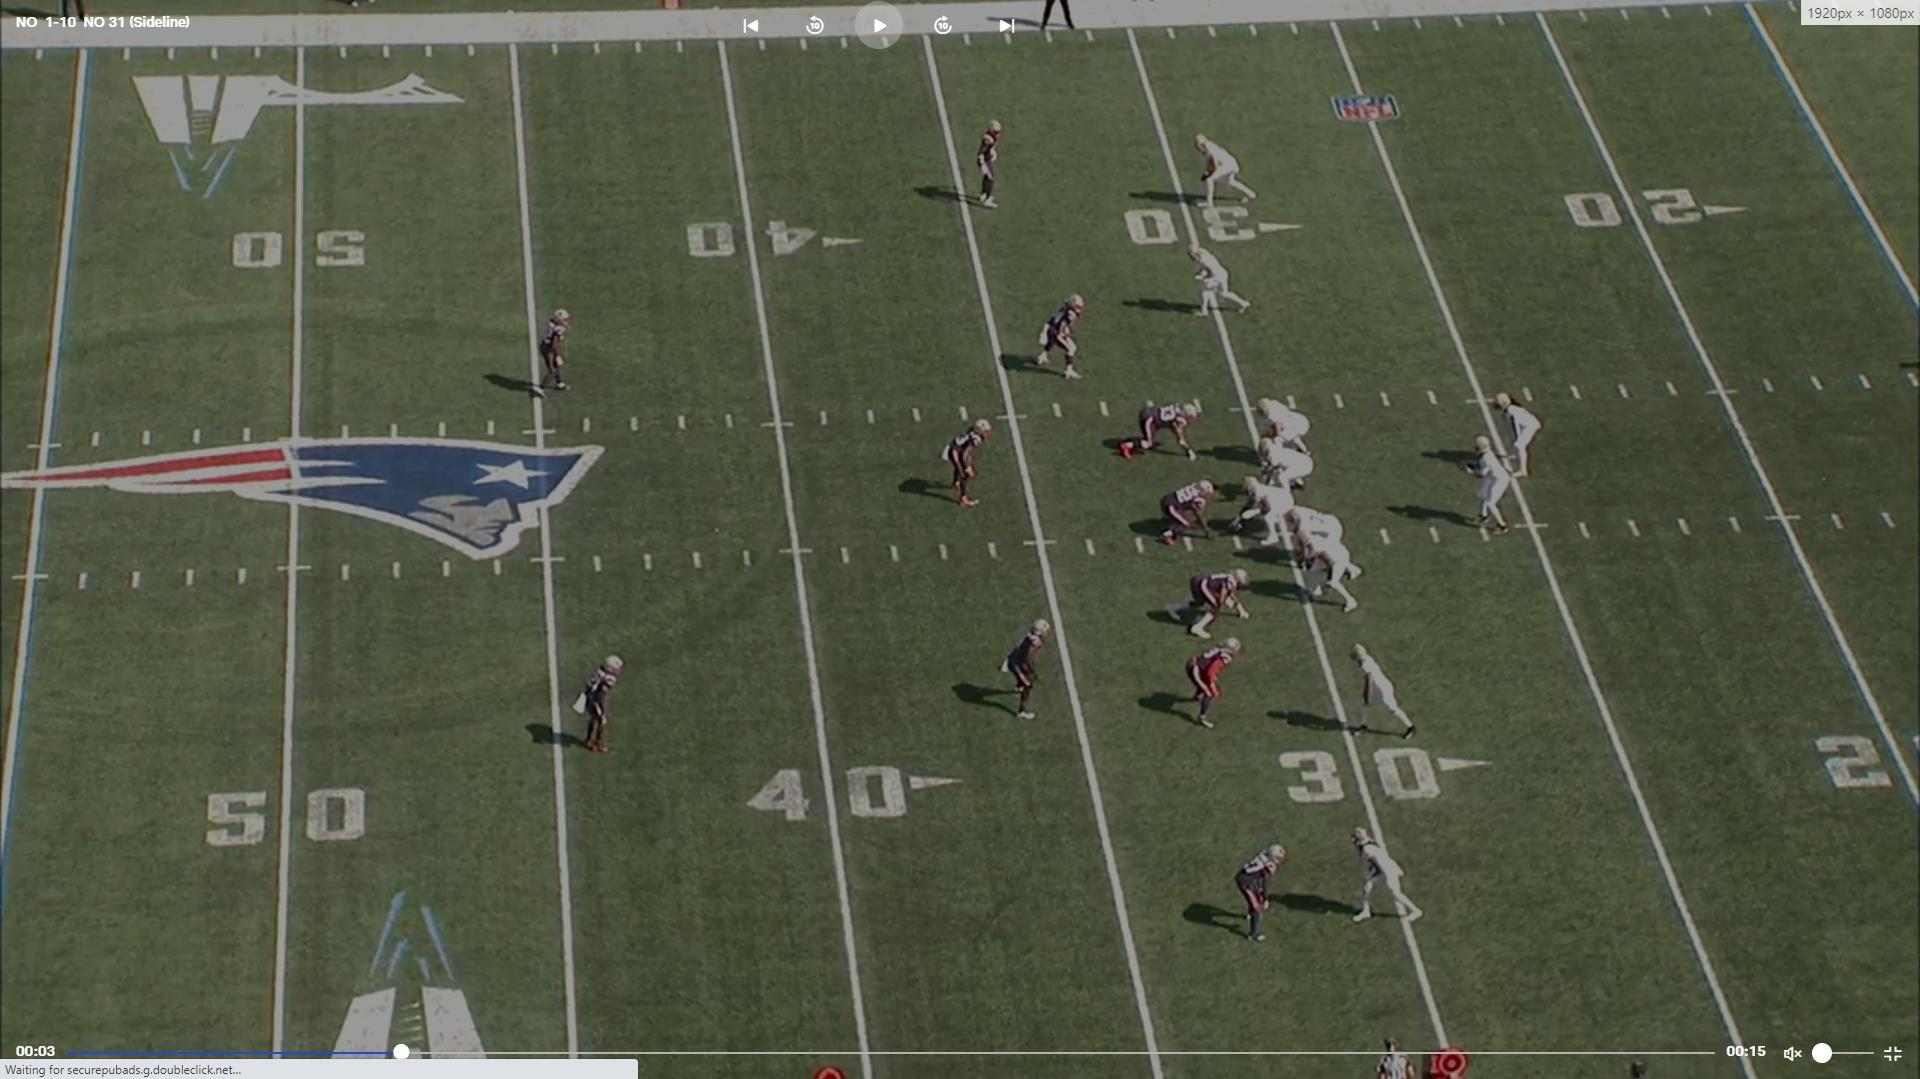player: (1346, 827, 1430, 934), (1342, 641, 1425, 740), (1290, 523, 1363, 617), (1158, 570, 1253, 642), (1234, 840, 1293, 947), (1001, 614, 1056, 726), (1188, 133, 1260, 218), (1117, 401, 1206, 467), (1182, 635, 1243, 731), (579, 653, 632, 763), (1460, 440, 1518, 540), (942, 417, 998, 515), (1035, 290, 1093, 384), (1190, 246, 1258, 326), (1492, 390, 1544, 490), (1236, 472, 1301, 552), (528, 304, 580, 404), (1282, 504, 1348, 582), (1156, 478, 1223, 550), (970, 116, 1008, 214), (1257, 395, 1315, 459), (1259, 438, 1315, 502)
ref: (1031, 0, 1087, 37)
